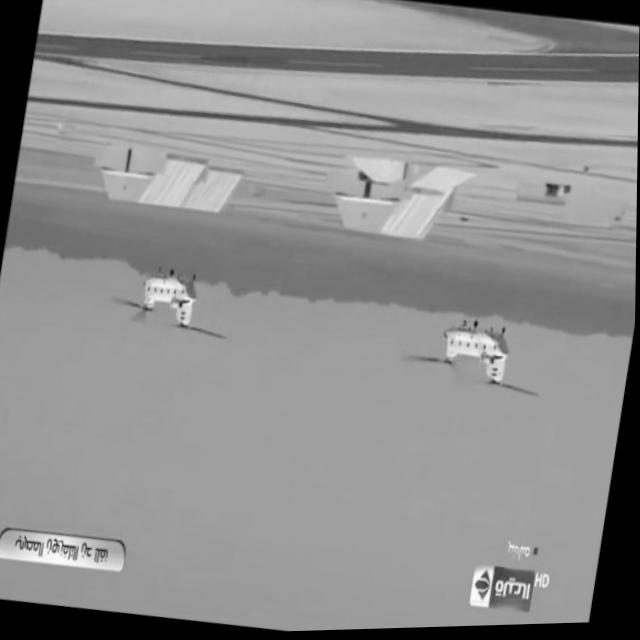helikopter: (409, 286, 543, 403), (106, 249, 231, 363)
